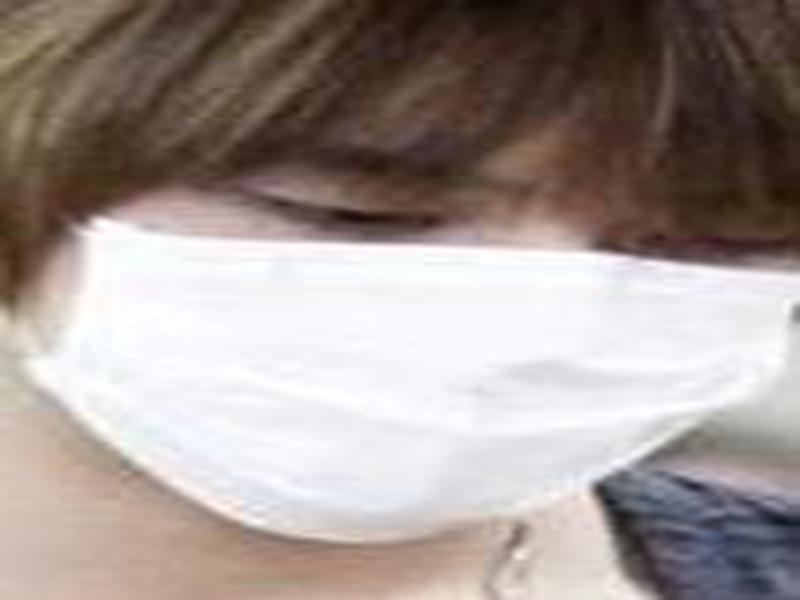with_mask: (1, 1, 798, 552)
